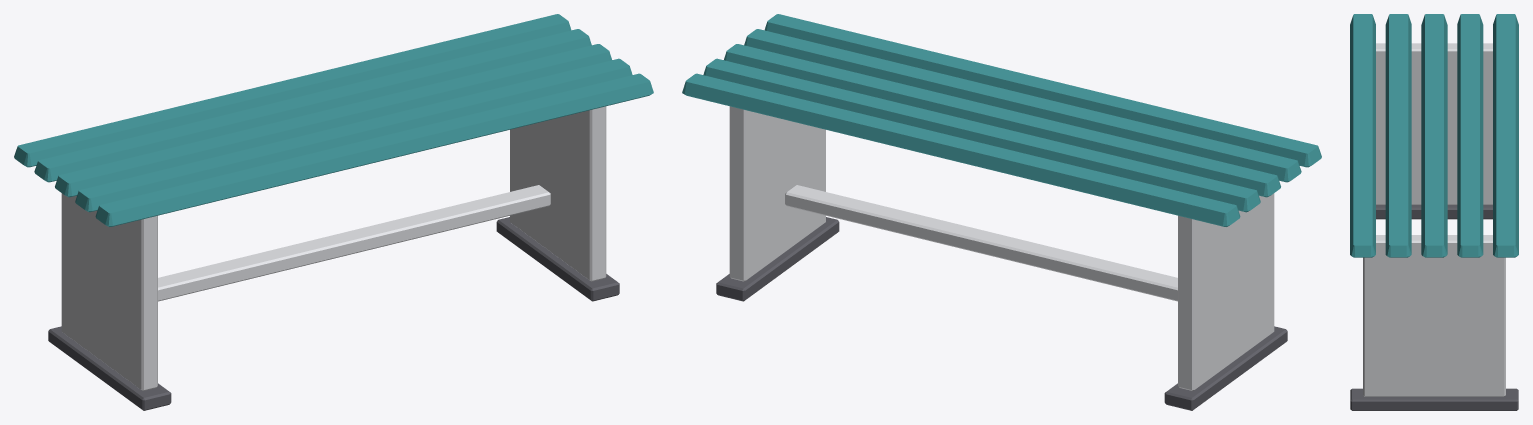
Rendered from dry-cleaners-and-alterations-shop-waiting-bench-teal-f970629e__34944.glb.
3 views of the same model, side by side, from view 1: azimuth 30°, elevation 25°; view 2: azimuth 150°, elevation 25°; view 3: azimuth 270°, elevation 25° (orthographic). The views are drawn at different scales.
Parts seen in each view (by area): view 1: waiting-bench-teal; view 2: waiting-bench-teal; view 3: waiting-bench-teal.
Part boxes in pixels (<box>): waiting-bench-teal: <box>14,14,653,410</box>; waiting-bench-teal: <box>682,14,1321,410</box>; waiting-bench-teal: <box>1350,14,1518,410</box>.
Size of the model in its own units: 1.32 by 0.4721 by 0.4021.
